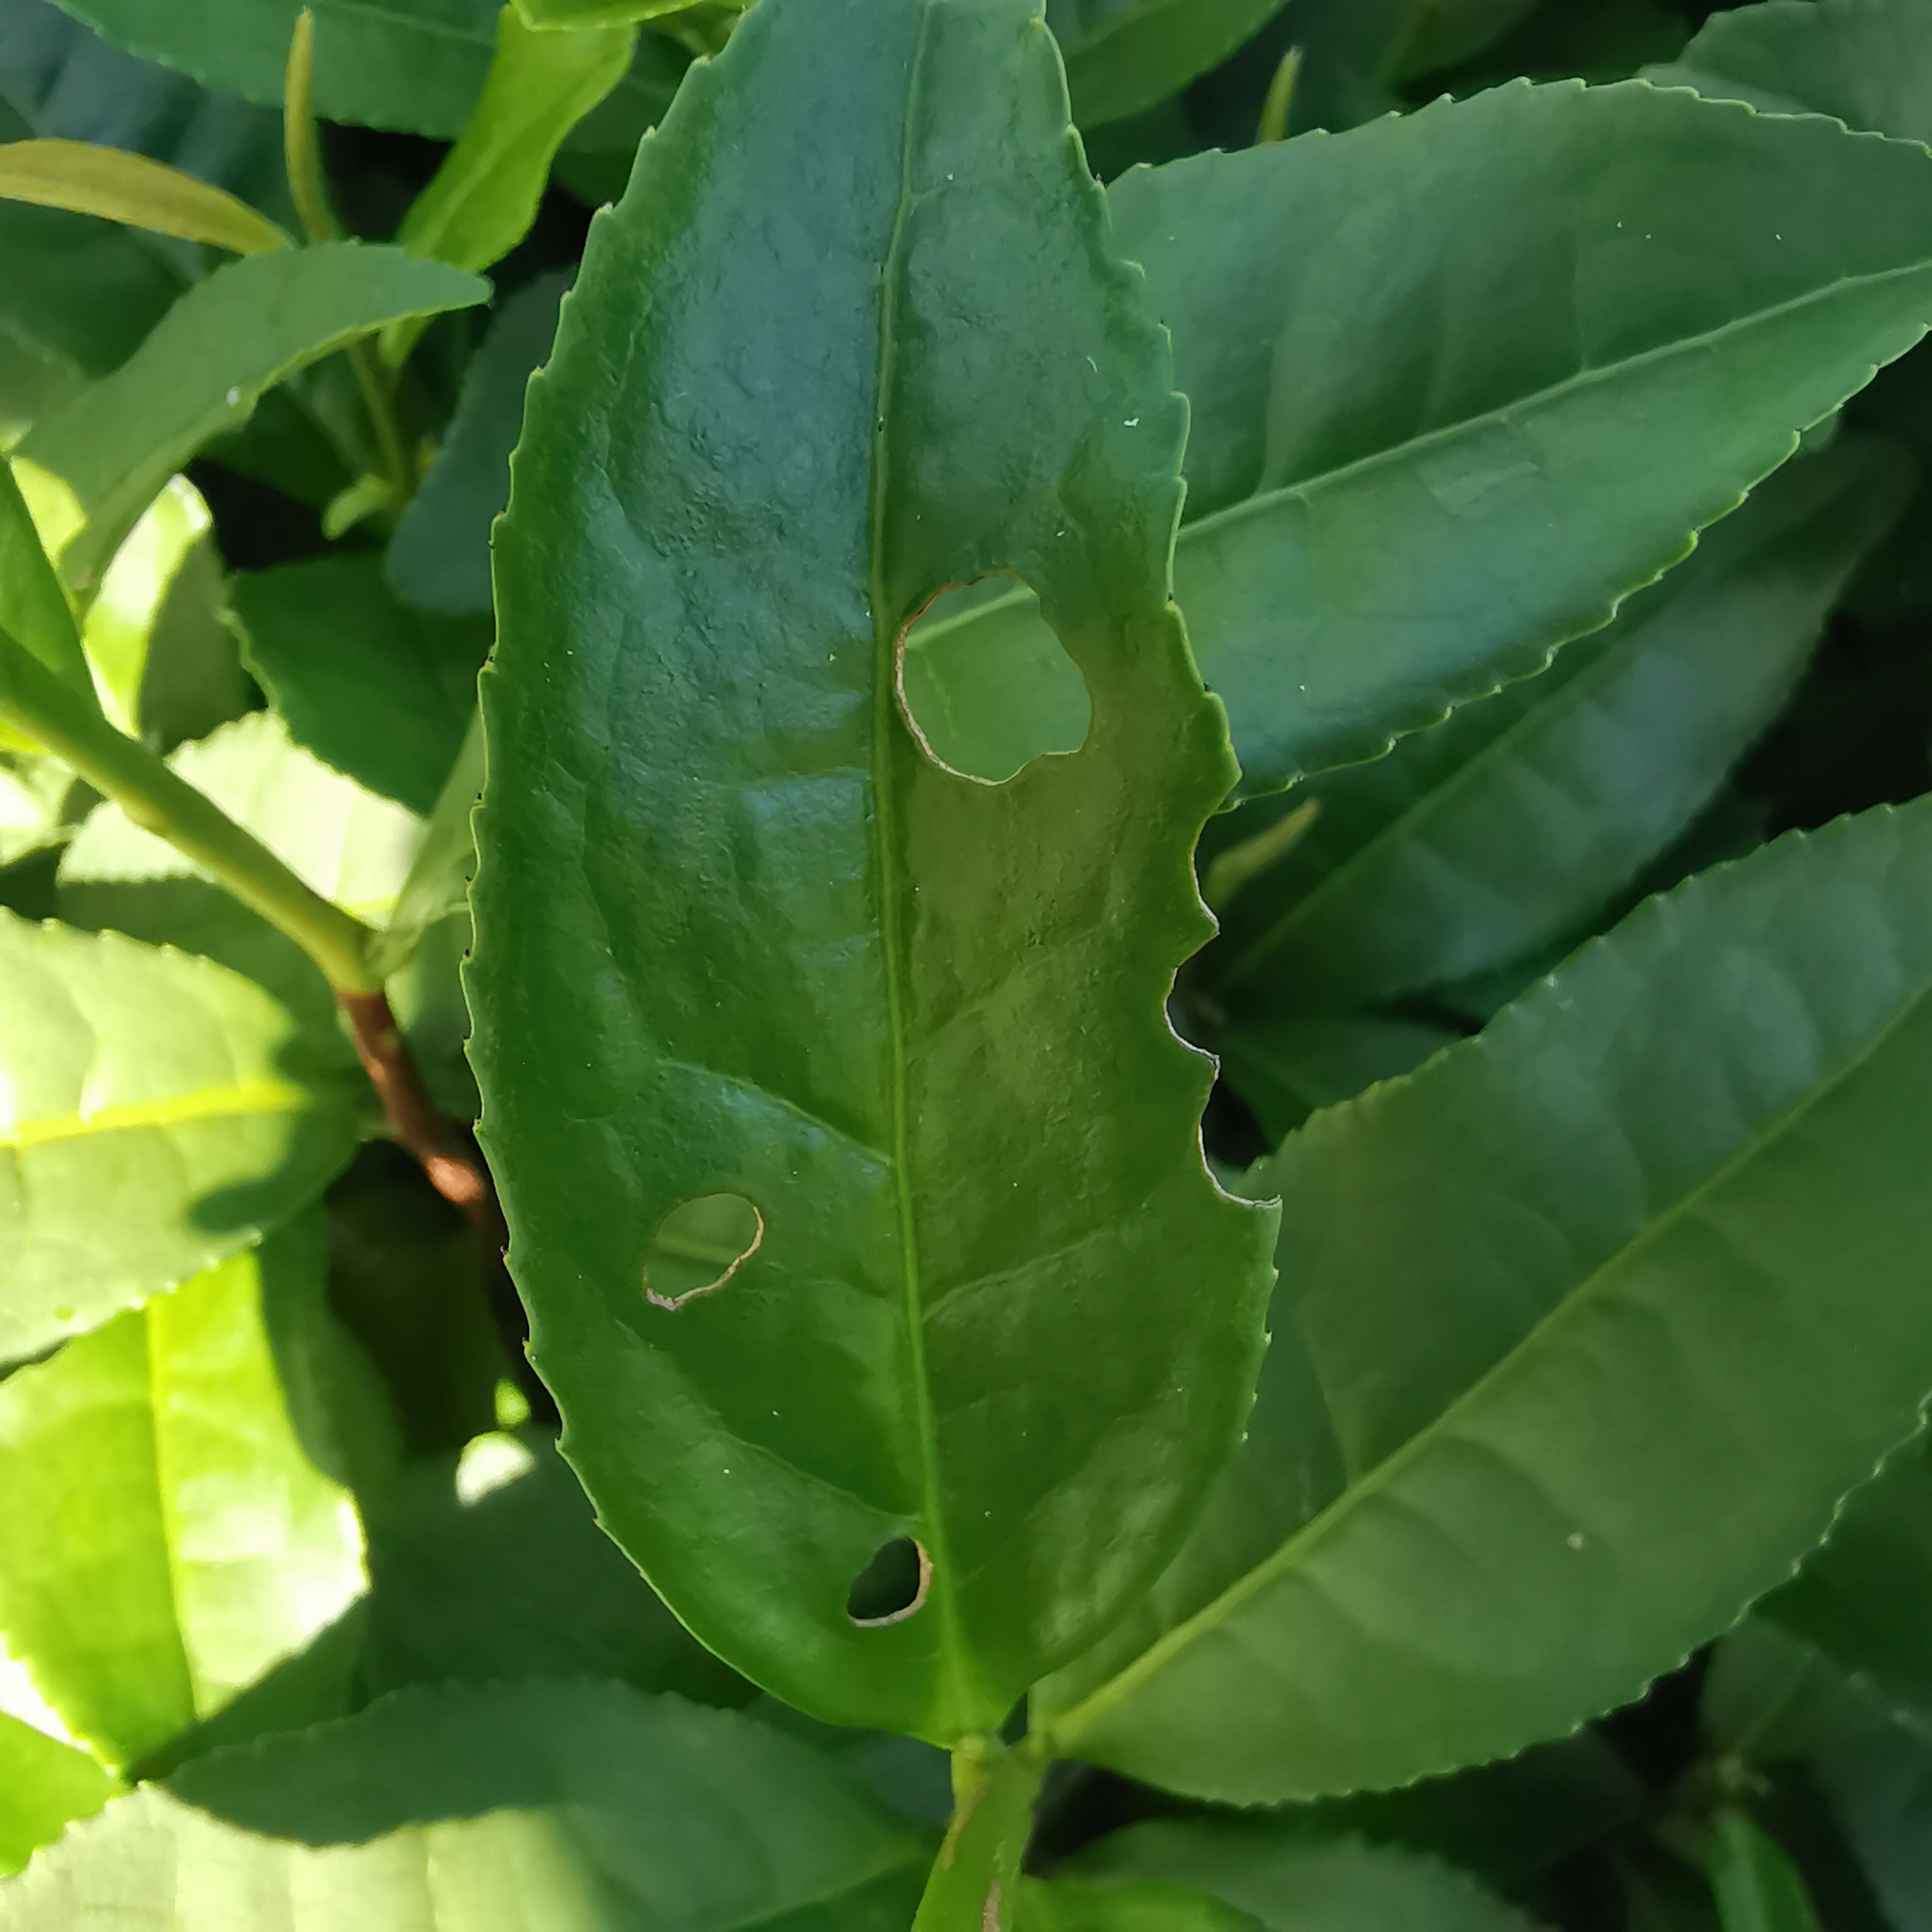chihuo_high: (455, 5, 1284, 1752)
